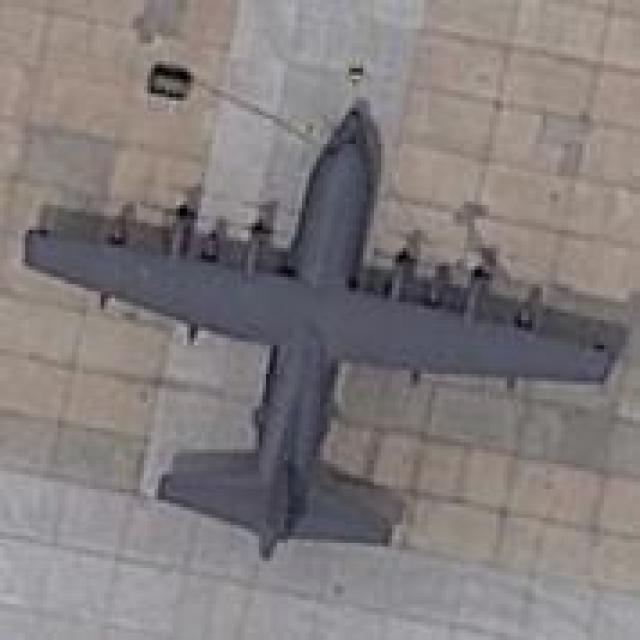C-130_TopDown: (14, 94, 636, 566)
